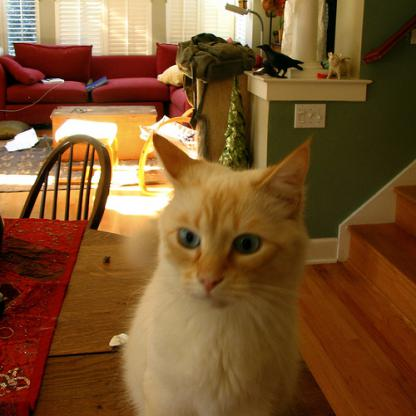cat: (119, 133, 330, 415)
